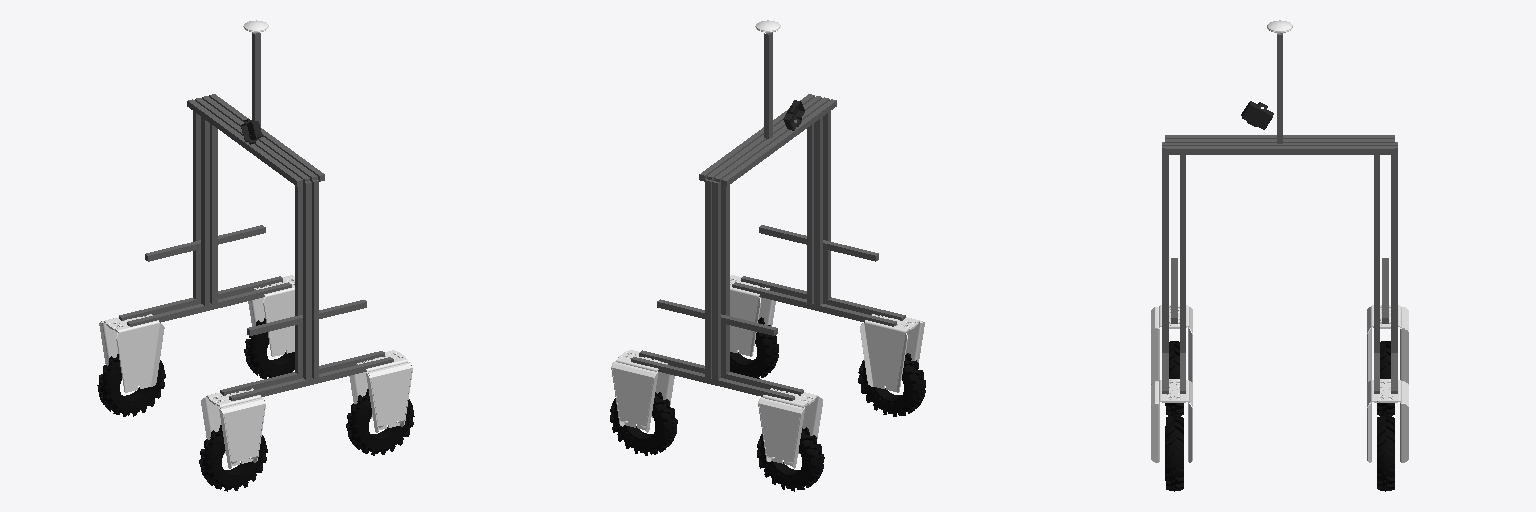
robot.urdf — amiga:
<?xml version="1.0"?>
<robot name="amiga">

  <!-- ============================================================ -->
  <!-- MATERIALS                                                     -->
  <!-- ============================================================ -->
  <material name="dark_metal">
    <color rgba="0.20 0.20 0.20 1.0"/>
  </material>
  <material name="light_metal">
    <color rgba="0.95 0.95 0.95 1.0"/>
  </material>
  <material name="frame_metal">
    <color rgba="0.45 0.45 0.45 1.0"/>
  </material>
  <material name="rubber_black">
    <color rgba="0.10 0.10 0.10 1.0"/>
  </material>
  <material name="sensor_dark">
    <color rgba="0.15 0.15 0.15 1.0"/>
  </material>

  <!-- ============================================================ -->
  <!-- BASE LINK (main frame structure)                              -->
  <!-- Origin at ground projection. All Z measured from ground.      -->
  <!-- Real Amiga: 1.5" square tube = 0.038m                        -->
  <!-- Ground clearance: 0.612m (24.1 inches)                       -->
  <!-- ============================================================ -->
  <link name="base_link">
    <inertial>
      <mass value="90.0"/>
      <origin xyz="0 0 1.262" rpy="0 0 0"/>
      <inertia ixx="15.0" ixy="0" ixz="0" iyy="13.0" iyz="0" izz="8.0"/>
    </inertial>

    <!-- ========== SIDE RAILS at ground clearance z=0.612 ========== -->
    <visual name="rail_left_outer">
      <origin xyz="0 0.65 0.612" rpy="0 0 0"/>
      <geometry><box size="1.1 0.038 0.038"/></geometry>
      <material name="frame_metal"/>
    </visual>
    <collision name="rail_left_outer_col">
      <origin xyz="0 0.65 0.612" rpy="0 0 0"/>
      <geometry><box size="1.1 0.038 0.038"/></geometry>
    </collision>

    <visual name="rail_left_inner">
      <origin xyz="0 0.55 0.612" rpy="0 0 0"/>
      <geometry><box size="1.1 0.038 0.038"/></geometry>
      <material name="frame_metal"/>
    </visual>
    <collision name="rail_left_inner_col">
      <origin xyz="0 0.55 0.612" rpy="0 0 0"/>
      <geometry><box size="1.1 0.038 0.038"/></geometry>
    </collision>

    <visual name="rail_right_outer">
      <origin xyz="0 -0.65 0.612" rpy="0 0 0"/>
      <geometry><box size="1.1 0.038 0.038"/></geometry>
      <material name="frame_metal"/>
    </visual>
    <collision name="rail_right_outer_col">
      <origin xyz="0 -0.65 0.612" rpy="0 0 0"/>
      <geometry><box size="1.1 0.038 0.038"/></geometry>
    </collision>

    <visual name="rail_right_inner">
      <origin xyz="0 -0.55 0.612" rpy="0 0 0"/>
      <geometry><box size="1.1 0.038 0.038"/></geometry>
      <material name="frame_metal"/>
    </visual>
    <collision name="rail_right_inner_col">
      <origin xyz="0 -0.55 0.612" rpy="0 0 0"/>
      <geometry><box size="1.1 0.038 0.038"/></geometry>
    </collision>

    <!-- ========== VERTICAL UPRIGHTS (8 total, z=0.612 to z=1.912) ========== -->
    <!-- Left outer pair (y=0.65) -->
    <visual name="upright_lo_1">
      <origin xyz="-0.025 0.65 1.262" rpy="0 0 0"/>
      <geometry><box size="0.038 0.038 1.3"/></geometry>
      <material name="frame_metal"/>
    </visual>
    <collision name="upright_lo_1_col">
      <origin xyz="-0.025 0.65 1.262" rpy="0 0 0"/>
      <geometry><box size="0.038 0.038 1.3"/></geometry>
    </collision>
    <visual name="upright_lo_2">
      <origin xyz="0.025 0.65 1.262" rpy="0 0 0"/>
      <geometry><box size="0.038 0.038 1.3"/></geometry>
      <material name="frame_metal"/>
    </visual>
    <collision name="upright_lo_2_col">
      <origin xyz="0.025 0.65 1.262" rpy="0 0 0"/>
      <geometry><box size="0.038 0.038 1.3"/></geometry>
    </collision>

    <!-- Left inner pair (y=0.55) -->
    <visual name="upright_li_1">
      <origin xyz="-0.025 0.55 1.262" rpy="0 0 0"/>
      <geometry><box size="0.038 0.038 1.3"/></geometry>
      <material name="frame_metal"/>
    </visual>
    <collision name="upright_li_1_col">
      <origin xyz="-0.025 0.55 1.262" rpy="0 0 0"/>
      <geometry><box size="0.038 0.038 1.3"/></geometry>
    </collision>
    <visual name="upright_li_2">
      <origin xyz="0.025 0.55 1.262" rpy="0 0 0"/>
      <geometry><box size="0.038 0.038 1.3"/></geometry>
      <material name="frame_metal"/>
    </visual>
    <collision name="upright_li_2_col">
      <origin xyz="0.025 0.55 1.262" rpy="0 0 0"/>
      <geometry><box size="0.038 0.038 1.3"/></geometry>
    </collision>

    <!-- Right inner pair (y=-0.55) -->
    <visual name="upright_ri_1">
      <origin xyz="-0.025 -0.55 1.262" rpy="0 0 0"/>
      <geometry><box size="0.038 0.038 1.3"/></geometry>
      <material name="frame_metal"/>
    </visual>
    <collision name="upright_ri_1_col">
      <origin xyz="-0.025 -0.55 1.262" rpy="0 0 0"/>
      <geometry><box size="0.038 0.038 1.3"/></geometry>
    </collision>
    <visual name="upright_ri_2">
      <origin xyz="0.025 -0.55 1.262" rpy="0 0 0"/>
      <geometry><box size="0.038 0.038 1.3"/></geometry>
      <material name="frame_metal"/>
    </visual>
    <collision name="upright_ri_2_col">
      <origin xyz="0.025 -0.55 1.262" rpy="0 0 0"/>
      <geometry><box size="0.038 0.038 1.3"/></geometry>
    </collision>

    <!-- Right outer pair (y=-0.65) -->
    <visual name="upright_ro_1">
      <origin xyz="-0.025 -0.65 1.262" rpy="0 0 0"/>
      <geometry><box size="0.038 0.038 1.3"/></geometry>
      <material name="frame_metal"/>
    </visual>
    <collision name="upright_ro_1_col">
      <origin xyz="-0.025 -0.65 1.262" rpy="0 0 0"/>
      <geometry><box size="0.038 0.038 1.3"/></geometry>
    </collision>
    <visual name="upright_ro_2">
      <origin xyz="0.025 -0.65 1.262" rpy="0 0 0"/>
      <geometry><box size="0.038 0.038 1.3"/></geometry>
      <material name="frame_metal"/>
    </visual>
    <collision name="upright_ro_2_col">
      <origin xyz="0.025 -0.65 1.262" rpy="0 0 0"/>
      <geometry><box size="0.038 0.038 1.3"/></geometry>
    </collision>

    <!-- ========== MID-HEIGHT SUSPENSION SUPPORT BARS (z=1.0) ========== -->
    <visual name="susp_bar_left">
      <origin xyz="0 0.60 1.0" rpy="0 0 0"/>
      <geometry><box size="0.8 0.038 0.038"/></geometry>
      <material name="frame_metal"/>
    </visual>
    <collision name="susp_bar_left_col">
      <origin xyz="0 0.60 1.0" rpy="0 0 0"/>
      <geometry><box size="0.8 0.038 0.038"/></geometry>
    </collision>
    <visual name="susp_bar_right">
      <origin xyz="0 -0.60 1.0" rpy="0 0 0"/>
      <geometry><box size="0.8 0.038 0.038"/></geometry>
      <material name="frame_metal"/>
    </visual>
    <collision name="susp_bar_right_col">
      <origin xyz="0 -0.60 1.0" rpy="0 0 0"/>
      <geometry><box size="0.8 0.038 0.038"/></geometry>
    </collision>

    <!-- ========== TOP CROSS BRACES at z=1.912 ========== -->
    <visual name="brace_top_1">
      <origin xyz="-0.075 0 1.912" rpy="0 0 0"/>
      <geometry><box size="0.038 1.3 0.038"/></geometry>
      <material name="frame_metal"/>
    </visual>
    <collision name="brace_top_1_col">
      <origin xyz="-0.075 0 1.912" rpy="0 0 0"/>
      <geometry><box size="0.038 1.3 0.038"/></geometry>
    </collision>
    <visual name="brace_top_2">
      <origin xyz="-0.025 0 1.912" rpy="0 0 0"/>
      <geometry><box size="0.038 1.3 0.038"/></geometry>
      <material name="frame_metal"/>
    </visual>
    <collision name="brace_top_2_col">
      <origin xyz="-0.025 0 1.912" rpy="0 0 0"/>
      <geometry><box size="0.038 1.3 0.038"/></geometry>
    </collision>
    <visual name="brace_top_3">
      <origin xyz="0.025 0 1.912" rpy="0 0 0"/>
      <geometry><box size="0.038 1.3 0.038"/></geometry>
      <material name="frame_metal"/>
    </visual>
    <collision name="brace_top_3_col">
      <origin xyz="0.025 0 1.912" rpy="0 0 0"/>
      <geometry><box size="0.038 1.3 0.038"/></geometry>
    </collision>
    <visual name="brace_top_4">
      <origin xyz="0.075 0 1.912" rpy="0 0 0"/>
      <geometry><box size="0.038 1.3 0.038"/></geometry>
      <material name="frame_metal"/>
    </visual>
    <collision name="brace_top_4_col">
      <origin xyz="0.075 0 1.912" rpy="0 0 0"/>
      <geometry><box size="0.038 1.3 0.038"/></geometry>
    </collision>

    <!-- ========== ANTENNA POLE (z=1.912 to z=2.612) ========== -->
    <visual name="antenna_pole">
      <origin xyz="0 0 2.262" rpy="0 0 0"/>
      <geometry><box size="0.038 0.038 0.7"/></geometry>
      <material name="frame_metal"/>
    </visual>
    <collision name="antenna_pole_col">
      <origin xyz="0 0 2.262" rpy="0 0 0"/>
      <geometry><box size="0.038 0.038 0.7"/></geometry>
    </collision>
  </link>

  <!-- ============================================================ -->
  <!-- FRONT LEFT: SUSPENSION + FORK + WHEEL                        -->
  <!-- ============================================================ -->
  <link name="fl_fork_link">
    <inertial>
      <mass value="5.0"/>
      <origin xyz="0 0 -0.2" rpy="0 0 0"/>
      <inertia ixx="0.094" ixy="0" ixz="0" iyy="0.115" iyz="0" izz="0.069"/>
    </inertial>
    <visual name="fl_fork_vis">
      <origin xyz="0 0 -0.396" rpy="1.5708 0 3.14159"/>
      <geometry><mesh filename="package://virtual_maize_field/models/amiga/meshes/smart_fork.stl"/></geometry>
      <material name="light_metal"/>
    </visual>
    <collision name="fl_fork_col">
      <origin xyz="0 0 -0.2" rpy="0 0 0"/>
      <geometry><box size="0.33 0.15 0.41"/></geometry>
    </collision>
  </link>

  <joint name="fl_suspension_joint" type="prismatic">
    <parent link="base_link"/>
    <child link="fl_fork_link"/>
    <origin xyz="0.5 0.6 0.612" rpy="0 0 0"/>
    <axis xyz="0 0 1"/>
    <limit lower="-0.025" upper="0.025" effort="5000" velocity="0.5"/>
    <dynamics damping="1500" friction="50"/>
  </joint>

  <link name="front_left_wheel_link">
    <inertial>
      <mass value="8.0"/>
      <inertia ixx="0.10" ixy="0" ixz="0" iyy="0.19" iyz="0" izz="0.10"/>
    </inertial>
    <visual name="fl_wheel_vis">
      <origin xyz="0 0 0" rpy="1.5708 0 0"/>
      <geometry><mesh filename="package://virtual_maize_field/models/amiga/meshes/wheel.stl"/></geometry>
      <material name="rubber_black"/>
    </visual>
    <collision name="fl_wheel_col">
      <origin xyz="0 0 0" rpy="1.5708 0 0"/>
      <geometry><cylinder radius="0.216" length="0.103"/></geometry>
    </collision>
  </link>

  <joint name="front_left_wheel_joint" type="continuous">
    <parent link="fl_fork_link"/>
    <child link="front_left_wheel_link"/>
    <origin xyz="0 0 -0.396" rpy="0 0 0"/>
    <axis xyz="0 1 0"/>
    <dynamics damping="5.0"/>
    <limit effort="140" velocity="12"/>
  </joint>

  <!-- ============================================================ -->
  <!-- FRONT RIGHT: SUSPENSION + FORK + WHEEL                       -->
  <!-- ============================================================ -->
  <link name="fr_fork_link">
    <inertial>
      <mass value="5.0"/>
      <origin xyz="0 0 -0.2" rpy="0 0 0"/>
      <inertia ixx="0.094" ixy="0" ixz="0" iyy="0.115" iyz="0" izz="0.069"/>
    </inertial>
    <visual name="fr_fork_vis">
      <origin xyz="0 0 -0.396" rpy="1.5708 0 0"/>
      <geometry><mesh filename="package://virtual_maize_field/models/amiga/meshes/smart_fork.stl"/></geometry>
      <material name="light_metal"/>
    </visual>
    <collision name="fr_fork_col">
      <origin xyz="0 0 -0.2" rpy="0 0 0"/>
      <geometry><box size="0.33 0.15 0.41"/></geometry>
    </collision>
  </link>

  <joint name="fr_suspension_joint" type="prismatic">
    <parent link="base_link"/>
    <child link="fr_fork_link"/>
    <origin xyz="0.5 -0.6 0.612" rpy="0 0 0"/>
    <axis xyz="0 0 1"/>
    <limit lower="-0.025" upper="0.025" effort="5000" velocity="0.5"/>
    <dynamics damping="1500" friction="50"/>
  </joint>

  <link name="front_right_wheel_link">
    <inertial>
      <mass value="8.0"/>
      <inertia ixx="0.10" ixy="0" ixz="0" iyy="0.19" iyz="0" izz="0.10"/>
    </inertial>
    <visual name="fr_wheel_vis">
      <origin xyz="0 0 0" rpy="1.5708 0 0"/>
      <geometry><mesh filename="package://virtual_maize_field/models/amiga/meshes/wheel.stl"/></geometry>
      <material name="rubber_black"/>
    </visual>
    <collision name="fr_wheel_col">
      <origin xyz="0 0 0" rpy="1.5708 0 0"/>
      <geometry><cylinder radius="0.216" length="0.103"/></geometry>
    </collision>
  </link>

  <joint name="front_right_wheel_joint" type="continuous">
    <parent link="fr_fork_link"/>
    <child link="front_right_wheel_link"/>
    <origin xyz="0 0 -0.396" rpy="0 0 0"/>
    <axis xyz="0 1 0"/>
    <dynamics damping="5.0"/>
    <limit effort="140" velocity="12"/>
  </joint>

  <!-- ============================================================ -->
  <!-- REAR LEFT: SUSPENSION + FORK + WHEEL                         -->
  <!-- ============================================================ -->
  <link name="rl_fork_link">
    <inertial>
      <mass value="5.0"/>
      <origin xyz="0 0 -0.2" rpy="0 0 0"/>
      <inertia ixx="0.094" ixy="0" ixz="0" iyy="0.115" iyz="0" izz="0.069"/>
    </inertial>
    <visual name="rl_fork_vis">
      <origin xyz="0 0 -0.396" rpy="1.5708 0 3.14159"/>
      <geometry><mesh filename="package://virtual_maize_field/models/amiga/meshes/smart_fork.stl"/></geometry>
      <material name="light_metal"/>
    </visual>
    <collision name="rl_fork_col">
      <origin xyz="0 0 -0.2" rpy="0 0 0"/>
      <geometry><box size="0.33 0.15 0.41"/></geometry>
    </collision>
  </link>

  <joint name="rl_suspension_joint" type="prismatic">
    <parent link="base_link"/>
    <child link="rl_fork_link"/>
    <origin xyz="-0.5 0.6 0.612" rpy="0 0 0"/>
    <axis xyz="0 0 1"/>
    <limit lower="-0.025" upper="0.025" effort="5000" velocity="0.5"/>
    <dynamics damping="1500" friction="50"/>
  </joint>

  <link name="rear_left_wheel_link">
    <inertial>
      <mass value="8.0"/>
      <inertia ixx="0.10" ixy="0" ixz="0" iyy="0.19" iyz="0" izz="0.10"/>
    </inertial>
    <visual name="rl_wheel_vis">
      <origin xyz="0 0 0" rpy="1.5708 0 0"/>
      <geometry><mesh filename="package://virtual_maize_field/models/amiga/meshes/wheel.stl"/></geometry>
      <material name="rubber_black"/>
    </visual>
    <collision name="rl_wheel_col">
      <origin xyz="0 0 0" rpy="1.5708 0 0"/>
      <geometry><cylinder radius="0.216" length="0.103"/></geometry>
    </collision>
  </link>

  <joint name="rear_left_wheel_joint" type="continuous">
    <parent link="rl_fork_link"/>
    <child link="rear_left_wheel_link"/>
    <origin xyz="0 0 -0.396" rpy="0 0 0"/>
    <axis xyz="0 1 0"/>
    <dynamics damping="5.0"/>
    <limit effort="140" velocity="12"/>
  </joint>

  <!-- ============================================================ -->
  <!-- REAR RIGHT: SUSPENSION + FORK + WHEEL                        -->
  <!-- ============================================================ -->
  <link name="rr_fork_link">
    <inertial>
      <mass value="5.0"/>
      <origin xyz="0 0 -0.2" rpy="0 0 0"/>
      <inertia ixx="0.094" ixy="0" ixz="0" iyy="0.115" iyz="0" izz="0.069"/>
    </inertial>
    <visual name="rr_fork_vis">
      <origin xyz="0 0 -0.396" rpy="1.5708 0 0"/>
      <geometry><mesh filename="package://virtual_maize_field/models/amiga/meshes/smart_fork.stl"/></geometry>
      <material name="light_metal"/>
    </visual>
    <collision name="rr_fork_col">
      <origin xyz="0 0 -0.2" rpy="0 0 0"/>
      <geometry><box size="0.33 0.15 0.41"/></geometry>
    </collision>
  </link>

  <joint name="rr_suspension_joint" type="prismatic">
    <parent link="base_link"/>
    <child link="rr_fork_link"/>
    <origin xyz="-0.5 -0.6 0.612" rpy="0 0 0"/>
    <axis xyz="0 0 1"/>
    <limit lower="-0.025" upper="0.025" effort="5000" velocity="0.5"/>
    <dynamics damping="1500" friction="50"/>
  </joint>

  <link name="rear_right_wheel_link">
    <inertial>
      <mass value="8.0"/>
      <inertia ixx="0.10" ixy="0" ixz="0" iyy="0.19" iyz="0" izz="0.10"/>
    </inertial>
    <visual name="rr_wheel_vis">
      <origin xyz="0 0 0" rpy="1.5708 0 0"/>
      <geometry><mesh filename="package://virtual_maize_field/models/amiga/meshes/wheel.stl"/></geometry>
      <material name="rubber_black"/>
    </visual>
    <collision name="rr_wheel_col">
      <origin xyz="0 0 0" rpy="1.5708 0 0"/>
      <geometry><cylinder radius="0.216" length="0.103"/></geometry>
    </collision>
  </link>

  <joint name="rear_right_wheel_joint" type="continuous">
    <parent link="rr_fork_link"/>
    <child link="rear_right_wheel_link"/>
    <origin xyz="0 0 -0.396" rpy="0 0 0"/>
    <axis xyz="0 1 0"/>
    <dynamics damping="5.0"/>
    <limit effort="140" velocity="12"/>
  </joint>

  <!-- ============================================================ -->
  <!-- OAK-D CAMERA (on antenna pole)                                -->
  <!-- ============================================================ -->
  <link name="oak_link">
    <inertial>
      <mass value="0.5"/>
      <inertia ixx="0.0001" ixy="0" ixz="0" iyy="0.0001" iyz="0" izz="0.0001"/>
    </inertial>
    <visual name="oak_visual">
      <origin xyz="0 0 0" rpy="3.14159 -0.5236 -1.5708"/>
      <geometry><mesh filename="package://virtual_maize_field/models/amiga/meshes/oak-d_simplified.stl"/></geometry>
      <material name="sensor_dark"/>
    </visual>
    <visual name="camera_housing">
      <origin xyz="-0.08 -0.022 -0.04" rpy="3.14159 -0.5236 -1.5708"/>
      <geometry><mesh filename="package://virtual_maize_field/models/amiga/meshes/camera_housing.stl"/></geometry>
      <material name="dark_metal"/>
    </visual>
    <visual name="camera_bracket">
      <origin xyz="0 0 0.02" rpy="0 0 0"/>
      <geometry><mesh filename="package://virtual_maize_field/models/amiga/meshes/camera_bracket.stl"/></geometry>
      <material name="light_metal"/>
    </visual>
    <collision name="oak_col">
      <origin xyz="0 0 0" rpy="3.14159 -0.5236 -1.5708"/>
      <geometry><box size="0.12 0.05 0.04"/></geometry>
    </collision>
  </link>

  <joint name="oak_joint" type="fixed">
    <parent link="base_link"/>
    <child link="oak_link"/>
    <origin xyz="0 0 2.112" rpy="0 0 0"/>
  </joint>

  <!-- ============================================================ -->
  <!-- GPS ANTENNA (top of antenna pole)                             -->
  <!-- ============================================================ -->
  <link name="gps_link">
    <inertial>
      <mass value="1.5"/>
      <inertia ixx="0.0001" ixy="0" ixz="0" iyy="0.0001" iyz="0" izz="0.0001"/>
    </inertial>
    <visual name="gps_visual">
      <geometry><mesh filename="package://virtual_maize_field/models/amiga/meshes/gps_antenna.stl"/></geometry>
      <material name="light_metal"/>
    </visual>
    <collision name="gps_col">
      <geometry><cylinder radius="0.075" length="0.066"/></geometry>
    </collision>
  </link>

  <joint name="gps_joint" type="fixed">
    <parent link="base_link"/>
    <child link="gps_link"/>
    <origin xyz="0 0 2.612" rpy="0 0 0"/>
  </joint>

  <!-- ============================================================ -->
  <!-- IMU (on top brace, invisible)                                 -->
  <!-- ============================================================ -->
  <link name="imu_link">
    <inertial>
      <mass value="0.01"/>
      <inertia ixx="0.00001" ixy="0" ixz="0" iyy="0.00001" iyz="0" izz="0.00001"/>
    </inertial>
  </link>

  <joint name="imu_joint" type="fixed">
    <parent link="base_link"/>
    <child link="imu_link"/>
    <origin xyz="0 0 1.912" rpy="0 0 0"/>
  </joint>

</robot>

--- Facts derived from the render (not from the file) ---
Views: 3 orthographic renders of the robot side by side, from view 1: azimuth 30°, elevation 25°; view 2: azimuth 150°, elevation 25°; view 3: azimuth 270°, elevation 25°.
Robot: amiga — 12 links, 11 joints (4 continuous, 4 prismatic, 3 fixed); root link base_link; default pose: every joint at zero.
Links seen in each view (by area): view 1: base_link, rl_fork_link, rr_fork_link, fr_fork_link, fl_fork_link, rear_right_wheel_link, front_right_wheel_link, rear_left_wheel_link, front_left_wheel_link; view 2: base_link, rr_fork_link, rl_fork_link, fl_fork_link, front_left_wheel_link, rear_left_wheel_link, rear_right_wheel_link, fr_fork_link, front_right_wheel_link; view 3: base_link, fl_fork_link, fr_fork_link, front_right_wheel_link, front_left_wheel_link, rl_fork_link, rr_fork_link, rear_right_wheel_link, rear_left_wheel_link, oak_link.
Boxes of the visible links, box(x1,y1,x2,y2) form: base_link: box(119, 32, 393, 400); rl_fork_link: box(99, 314, 164, 392); rr_fork_link: box(201, 388, 265, 468); fr_fork_link: box(349, 350, 412, 432); fl_fork_link: box(248, 275, 294, 356); rear_right_wheel_link: box(199, 425, 267, 491); front_right_wheel_link: box(346, 389, 414, 455); rear_left_wheel_link: box(97, 354, 165, 416); front_left_wheel_link: box(244, 318, 294, 378); base_link: box(631, 32, 905, 400); rr_fork_link: box(860, 314, 924, 392); rl_fork_link: box(758, 388, 822, 468); fl_fork_link: box(611, 350, 674, 432); front_left_wheel_link: box(610, 392, 677, 455); rear_left_wheel_link: box(757, 427, 824, 491); rear_right_wheel_link: box(858, 353, 925, 416); fr_fork_link: box(730, 275, 775, 356); front_right_wheel_link: box(730, 317, 778, 378); base_link: box(1162, 34, 1397, 393); fl_fork_link: box(1367, 379, 1408, 462); fr_fork_link: box(1151, 379, 1192, 462); front_right_wheel_link: box(1165, 415, 1183, 491); front_left_wheel_link: box(1377, 415, 1394, 491); rl_fork_link: box(1367, 305, 1408, 383); rr_fork_link: box(1151, 305, 1192, 383); rear_right_wheel_link: box(1165, 341, 1183, 415); rear_left_wheel_link: box(1377, 341, 1394, 415); oak_link: box(1241, 101, 1273, 129).
Size in the robot's own frame: 1.43 by 1.46 by 2.68 metres.
11 mesh visuals loaded from 6 distinct referenced files (5 binary STL); not drawn: 1 (reference not matched to a file when rendering).
